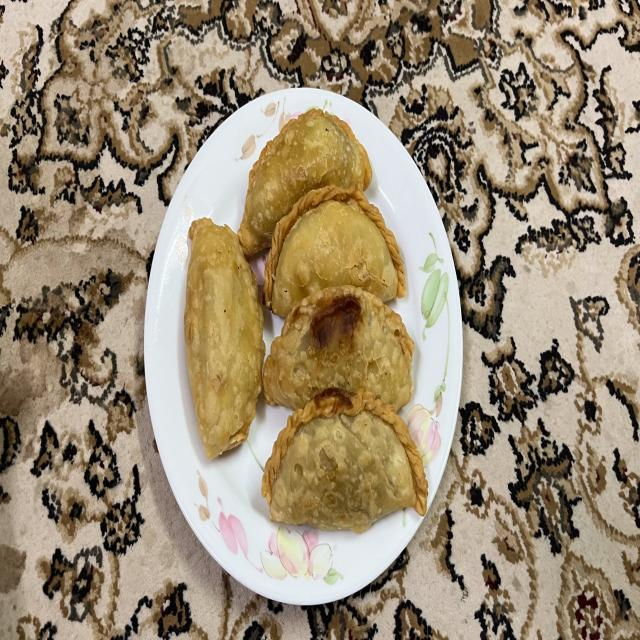karipap: (262, 389, 428, 533), (238, 109, 372, 258), (184, 218, 265, 458), (264, 184, 406, 318), (262, 287, 414, 411)
